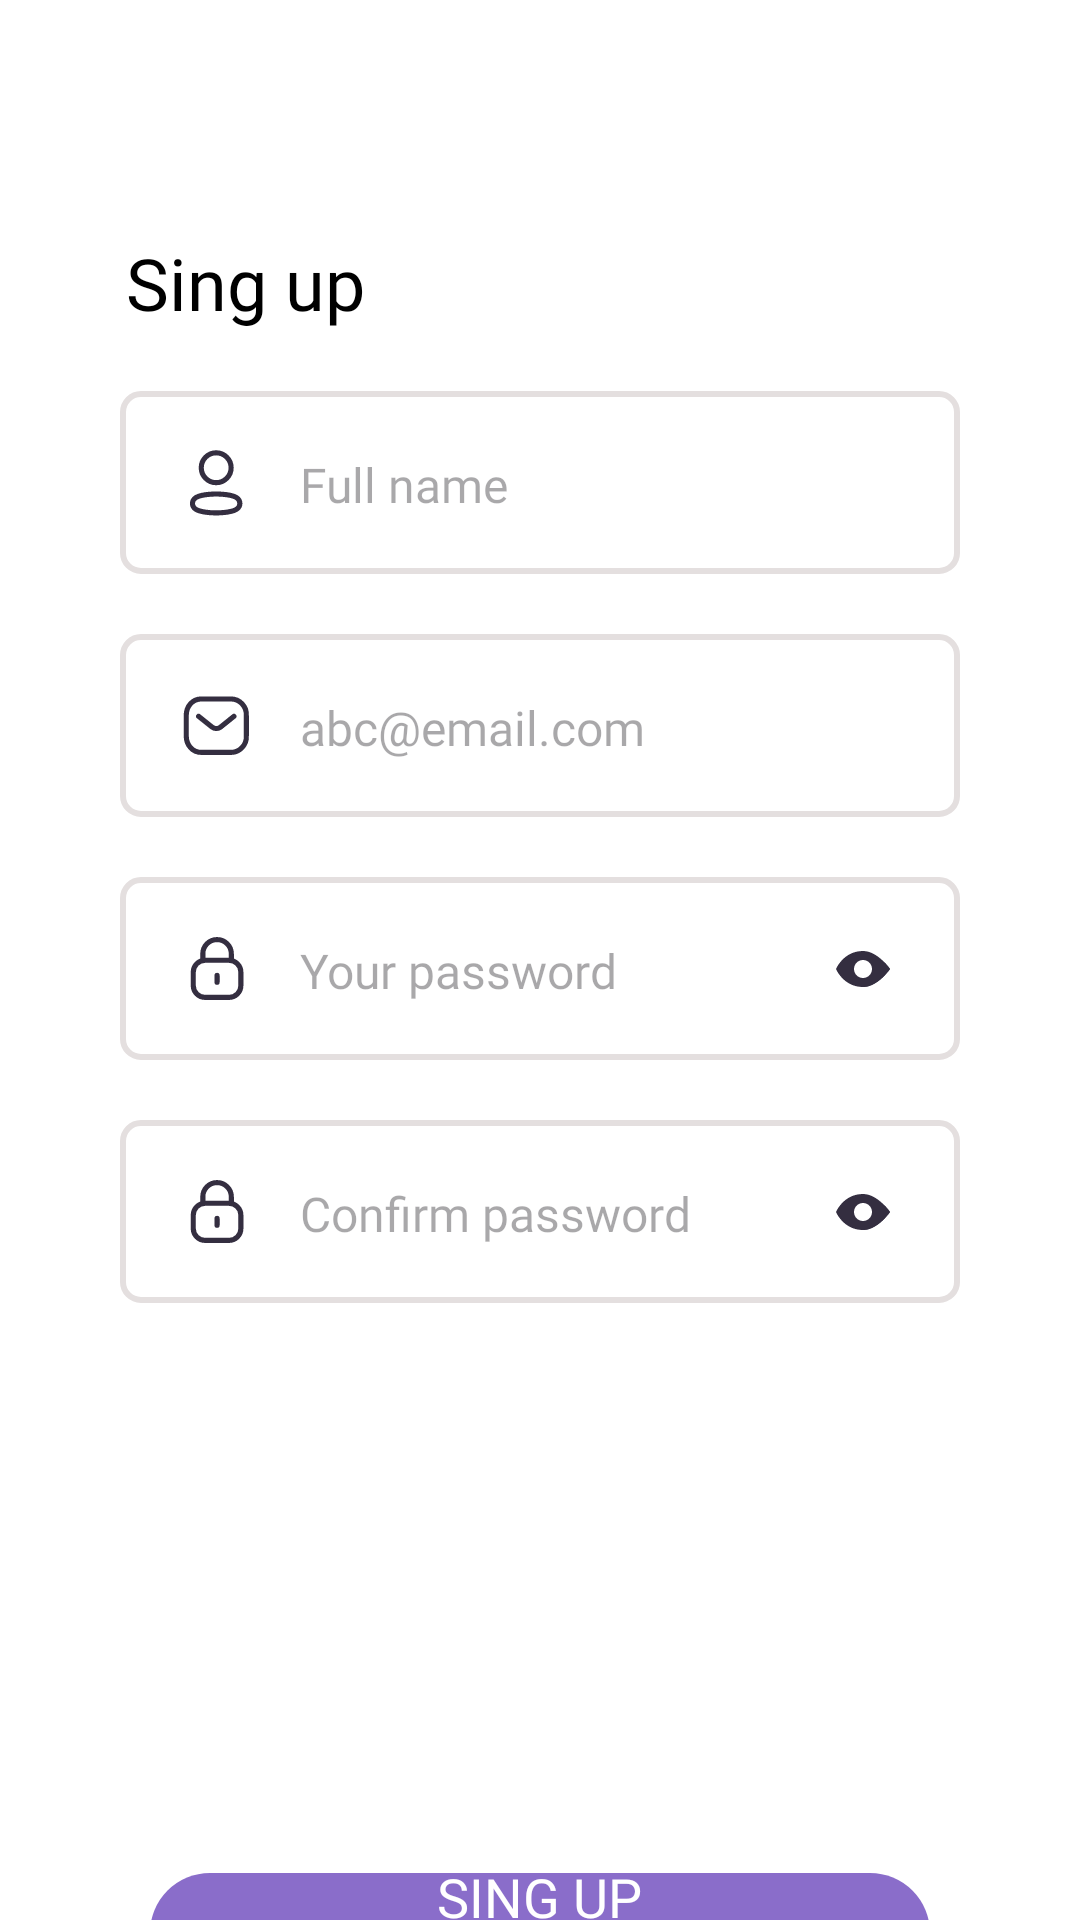

Icons on this 1080*1920 Android screen, each with its box as region(x1, y1, x2, y2):
password visible: region(836, 951, 890, 987), region(836, 1194, 890, 1230)
profile: region(190, 450, 243, 516)
